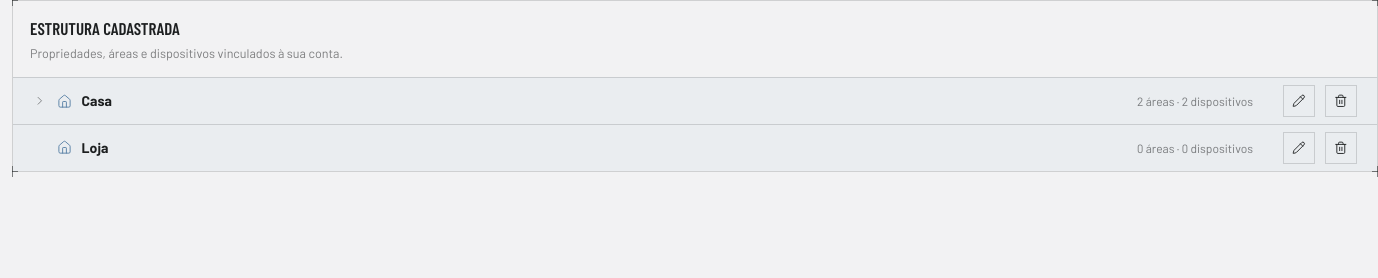
RegistrationTree — estrutura › recolhe de novo ao clicar outra vez
The image size is (1378, 278).
What coordinates should you click on to do the following:
click the button "Casa 2 áreas · 2 dispositivos"
I would click on:
 (97, 101)
Its box is [13, 78, 1273, 124].
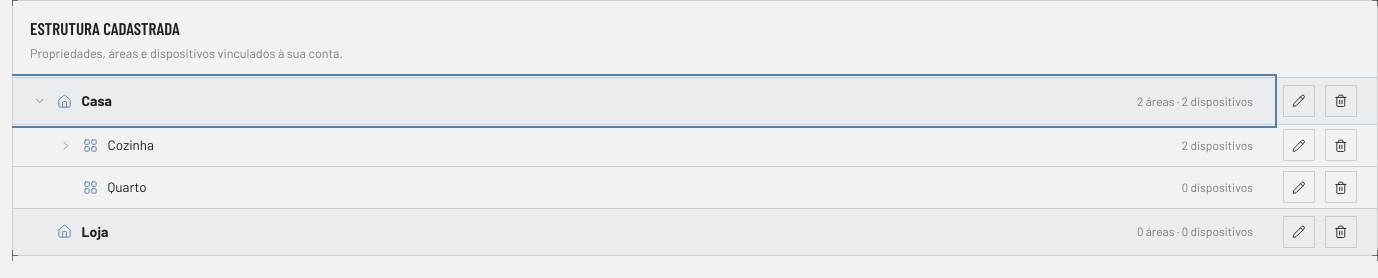
What coordinates should you click on to do the following:
click the button "Casa 2 áreas · 2 dispositivos"
I would click on:
 (97, 101)
Its box is [13, 78, 1273, 124].
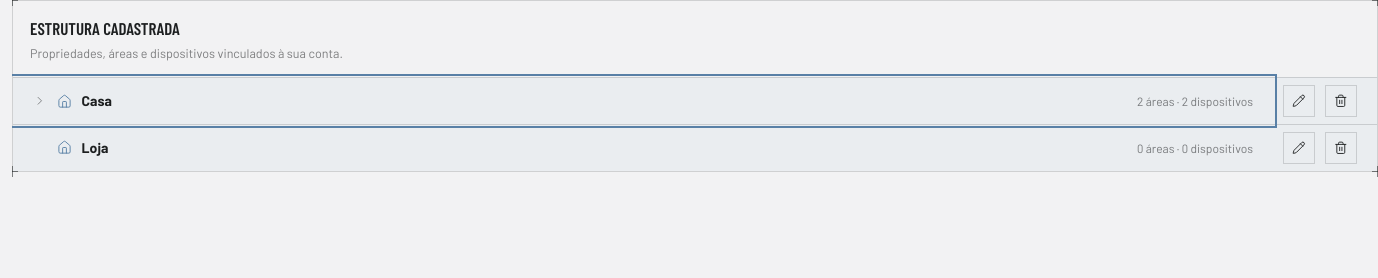
Now the button "Cozinha" is gone
